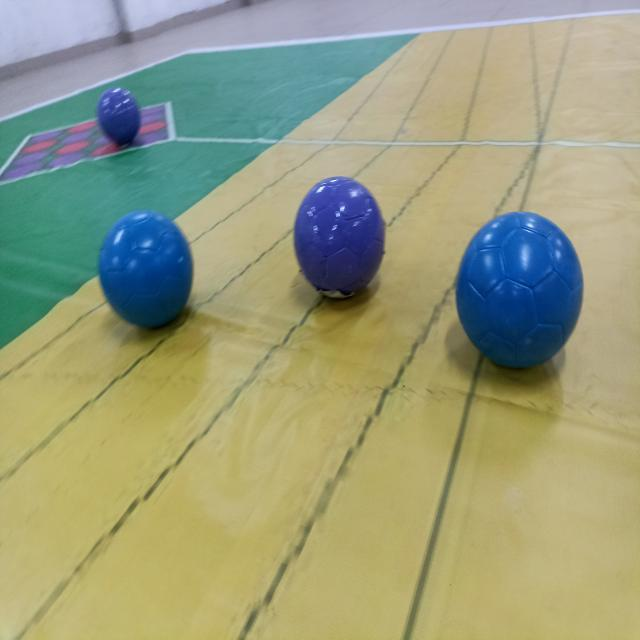blue_ball: (460, 220, 574, 370), (101, 218, 191, 319)
purple_ball: (300, 176, 380, 292), (100, 89, 140, 147)
